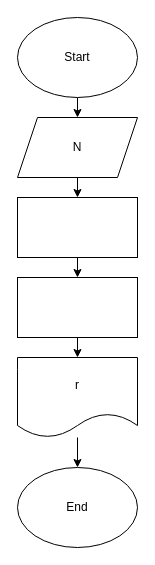
This 155x565 diagram has some shape labels left out. Each missing label, with the box of its shape:
r = r*r: (16, 276, 138, 338)
r = ramdom(1,N): (16, 196, 138, 258)
